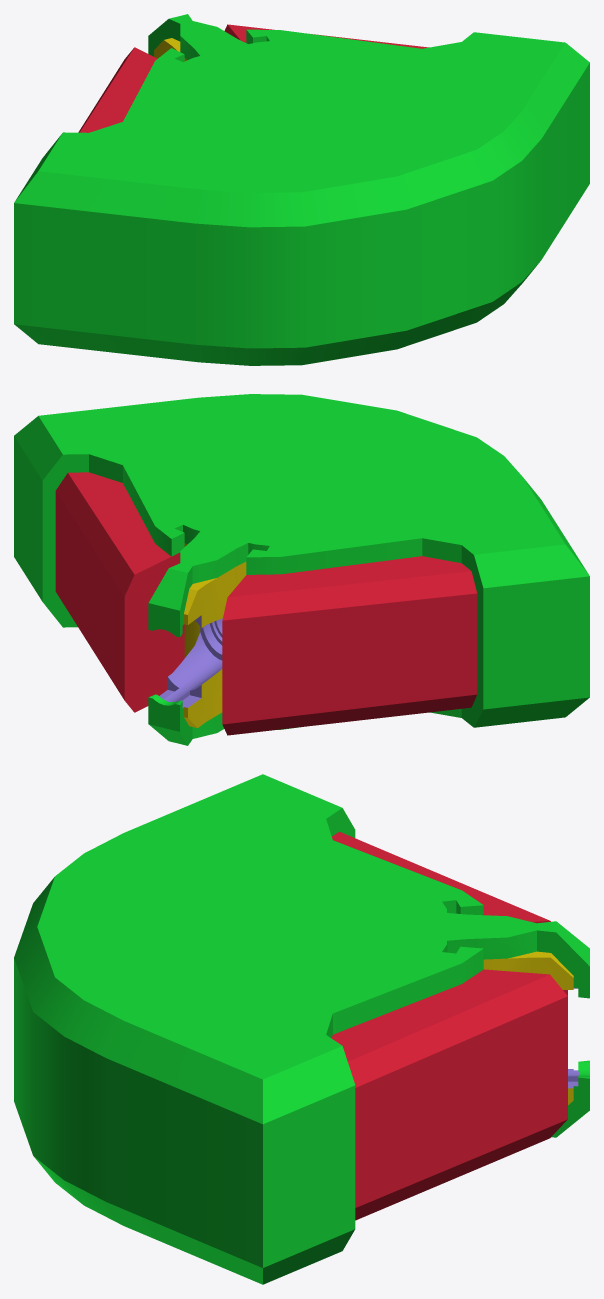
Rendered from Foodinatorpackage_low.fbx.
3 views of the same model, one above another, from view 1: azimuth 30°, elevation 25°; view 2: azimuth 150°, elevation 25°; view 3: azimuth 270°, elevation 25° (orthographic). The views are drawn at different scales.
Visible parts, largest first — view 1: Food.007; view 2: Food.007; view 3: Food.007.
Part boxes in pixels (x1,y1,x2,y2): Food.007: [14, 14, 589, 365]; Food.007: [14, 394, 589, 745]; Food.007: [14, 774, 589, 1284].
Bounding box in the file's own units: 93.83 × 26.92 × 68.46.
